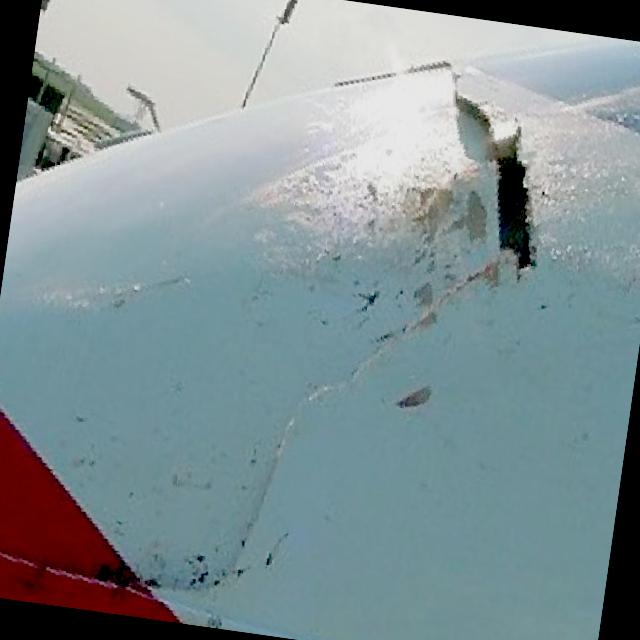crack: (446, 66, 500, 135)
